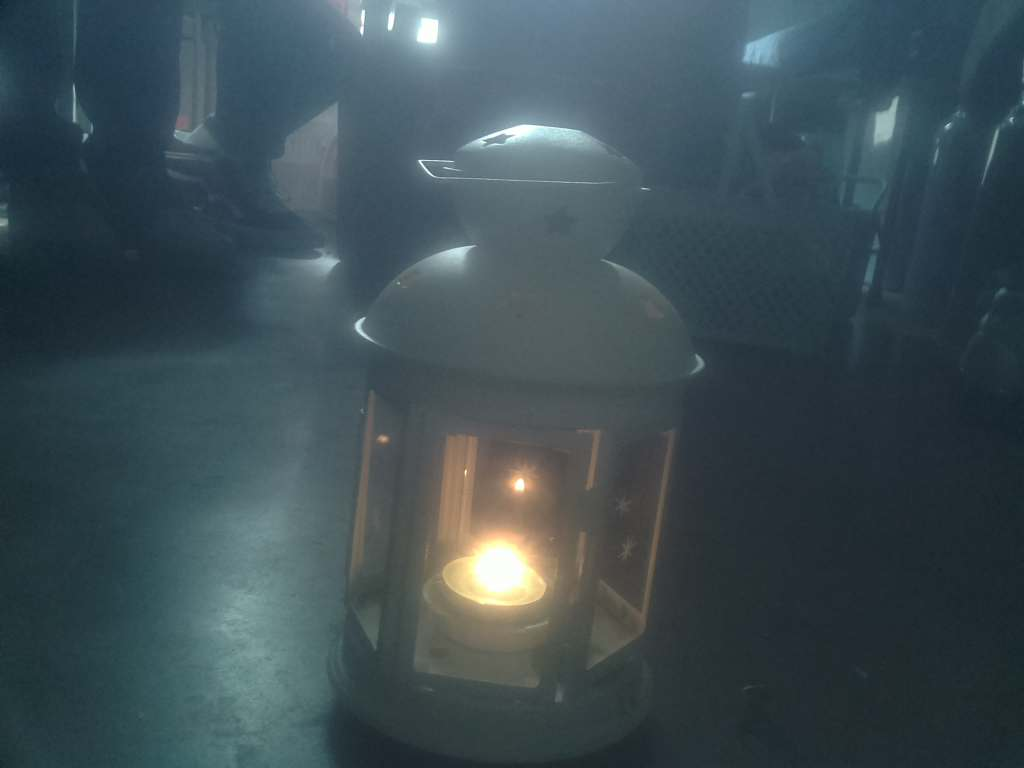fire: (435, 513, 571, 632)
